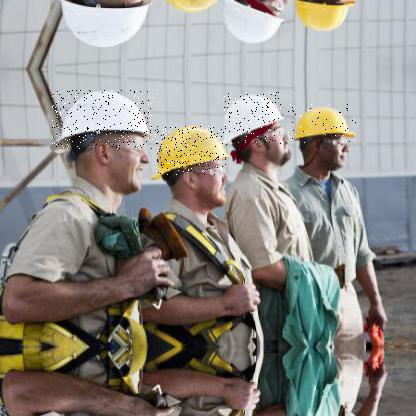safetyhelmet: (52, 91, 154, 150), (155, 126, 228, 176), (223, 92, 282, 146), (288, 104, 357, 144)
